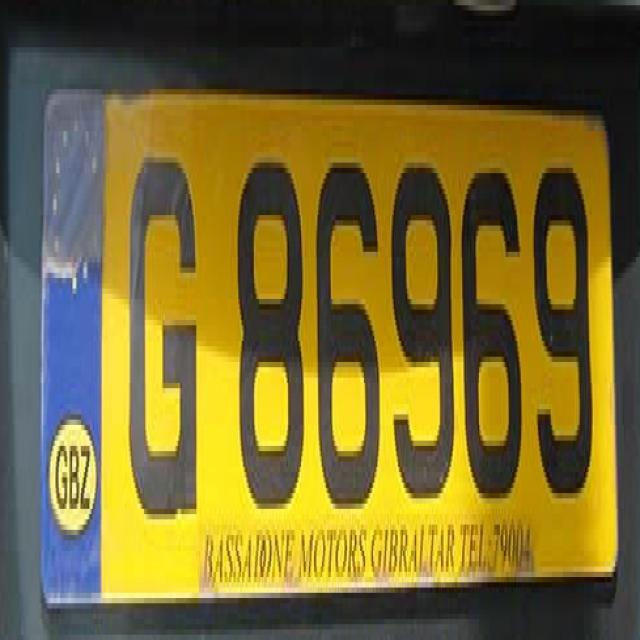Autre: (45, 99, 617, 591)
